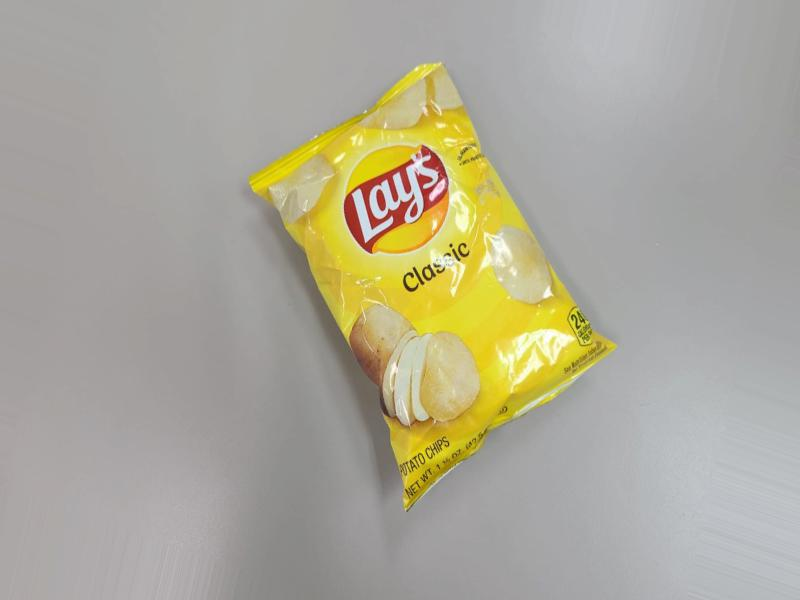lays: (268, 76, 686, 539)
